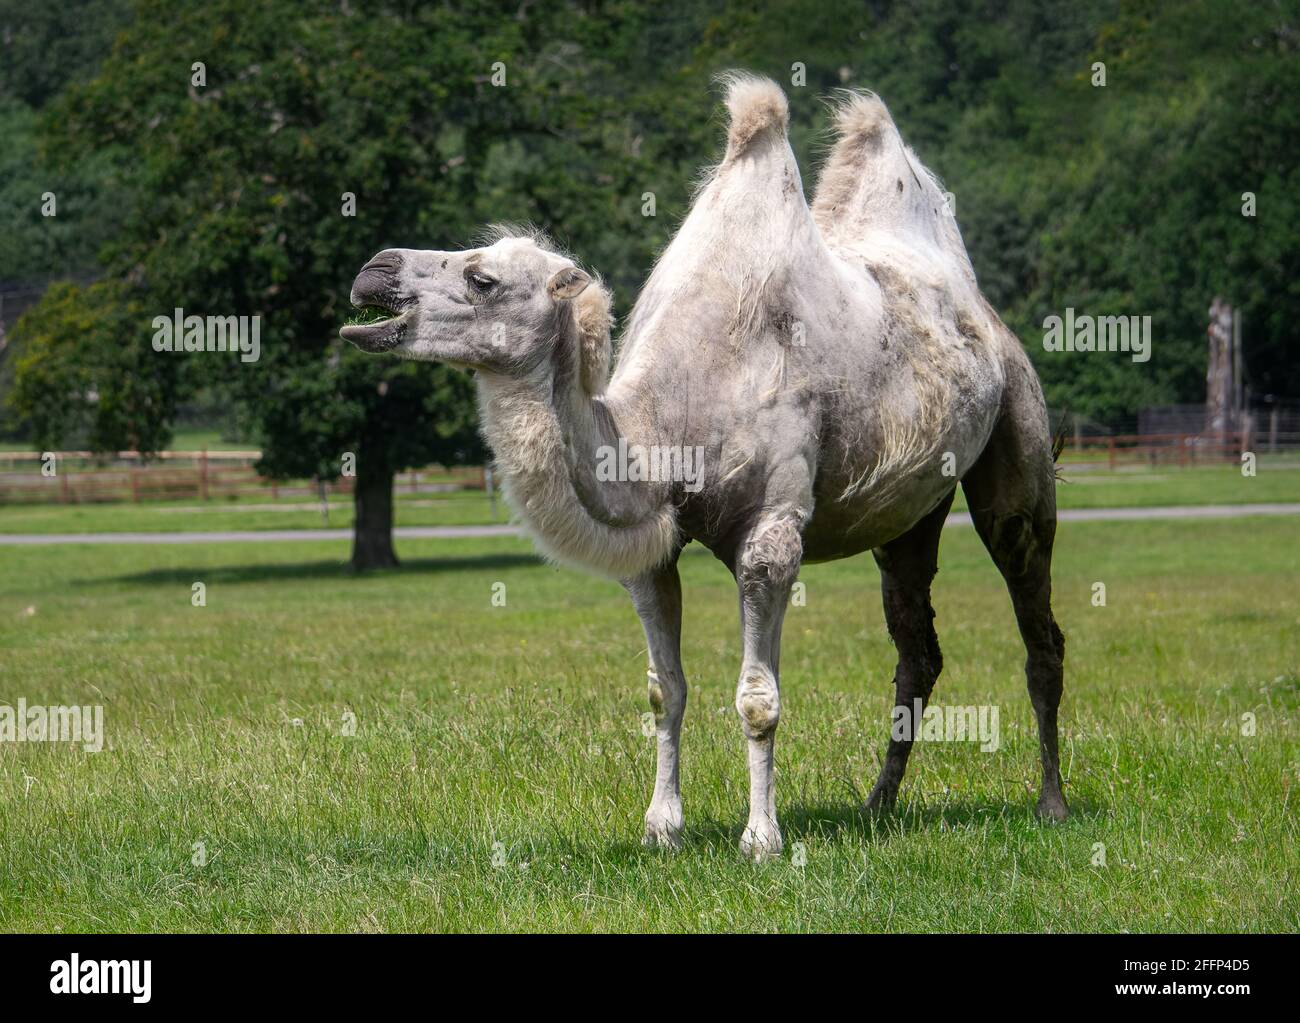camel: (356, 27, 1115, 873)
